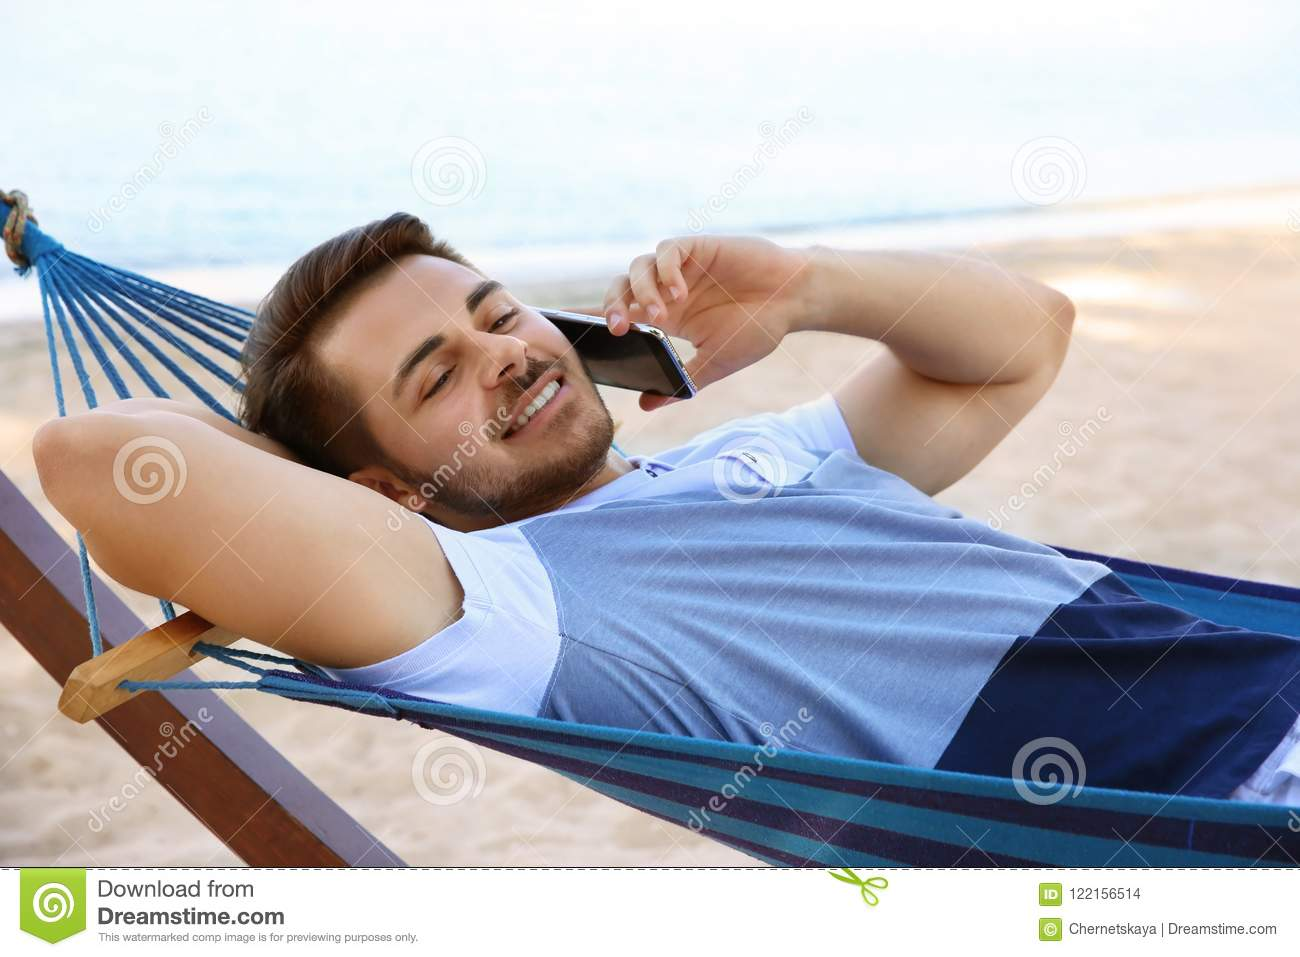phone: (532, 295, 700, 403)
talk: (388, 214, 808, 506)
